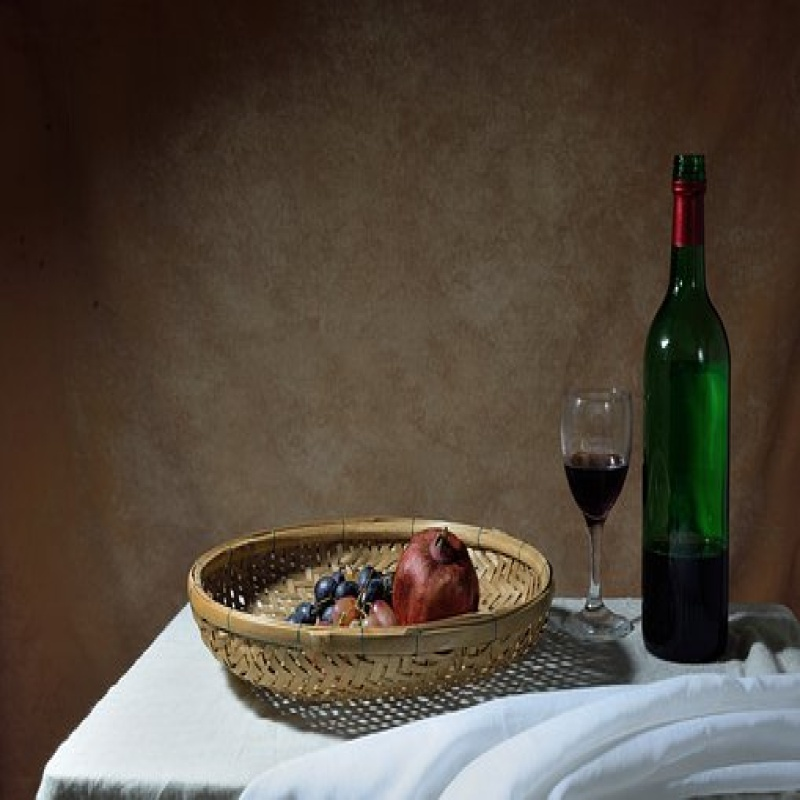wine: (649, 154, 733, 670)
